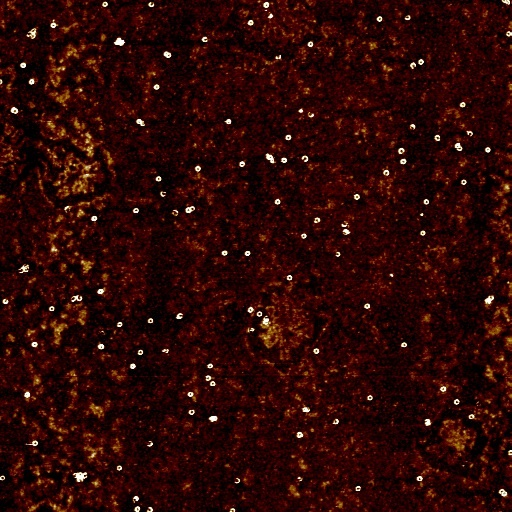-1: (72, 470, 90, 484), (17, 261, 32, 277), (111, 36, 128, 49), (453, 140, 465, 154), (26, 27, 37, 42), (482, 293, 495, 305), (264, 150, 275, 164), (130, 494, 143, 504), (134, 119, 147, 129), (162, 50, 174, 60), (498, 486, 508, 497), (263, 315, 272, 327), (423, 416, 432, 427), (210, 414, 220, 423), (23, 390, 32, 400), (171, 210, 181, 219), (408, 122, 417, 132), (247, 326, 257, 334), (342, 228, 352, 236), (295, 475, 304, 483), (273, 53, 281, 62), (499, 0, 510, 6), (389, 272, 397, 280), (295, 107, 303, 115), (162, 347, 171, 354), (302, 407, 312, 413)
1/4: (64, 205, 71, 214)
2/4: (233, 476, 244, 487), (332, 249, 344, 258), (147, 439, 157, 449), (306, 109, 315, 118), (340, 220, 349, 227), (507, 448, 511, 456)
3/4: (174, 310, 186, 321), (114, 319, 125, 330), (199, 35, 211, 44), (464, 128, 474, 138), (311, 216, 322, 225), (70, 292, 77, 306), (77, 293, 85, 305), (402, 13, 412, 22), (299, 153, 308, 163), (2, 296, 10, 307), (190, 205, 198, 216), (407, 61, 416, 70), (332, 417, 340, 427), (147, 1, 157, 9), (382, 168, 390, 178), (397, 147, 407, 155), (354, 485, 363, 493), (160, 190, 167, 200), (469, 413, 475, 421), (504, 30, 510, 38), (229, 507, 238, 511), (149, 507, 156, 511)
4/4: (9, 105, 20, 118), (219, 249, 231, 259), (154, 174, 164, 186), (261, 0, 271, 11), (271, 197, 282, 207), (351, 191, 361, 202), (150, 83, 162, 92), (452, 396, 462, 406), (137, 347, 147, 357), (30, 340, 40, 350), (131, 206, 141, 216), (193, 164, 203, 174), (27, 78, 37, 88), (246, 18, 256, 28), (129, 362, 139, 371), (148, 316, 158, 325), (100, 1, 109, 11), (296, 430, 304, 441), (239, 159, 247, 170), (439, 384, 448, 393), (210, 380, 219, 389), (207, 361, 216, 370), (285, 272, 294, 281), (97, 342, 106, 351), (96, 287, 105, 296), (32, 439, 41, 448), (90, 215, 99, 224), (48, 304, 56, 314), (1, 473, 9, 483), (183, 207, 191, 217), (279, 155, 287, 165), (433, 133, 441, 143), (400, 340, 409, 348), (363, 301, 371, 310), (188, 391, 197, 399), (247, 306, 256, 314), (116, 464, 125, 472), (244, 250, 253, 258), (19, 63, 28, 71), (50, 23, 58, 32), (283, 133, 291, 142), (399, 158, 408, 166), (306, 38, 313, 48), (485, 145, 492, 155), (375, 14, 383, 22), (460, 178, 468, 186), (257, 310, 264, 319), (299, 233, 308, 240), (423, 198, 430, 207), (133, 506, 145, 511), (312, 347, 320, 354), (190, 409, 197, 417), (224, 119, 232, 126), (458, 101, 465, 109), (419, 229, 426, 237), (417, 58, 424, 66), (417, 475, 423, 482), (367, 395, 374, 401)
